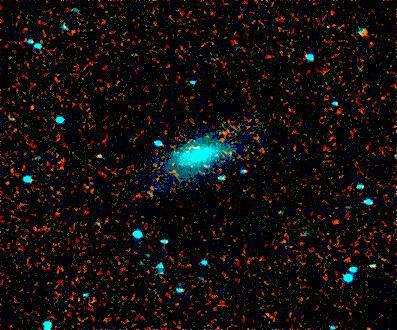star: (321, 207, 351, 237)
